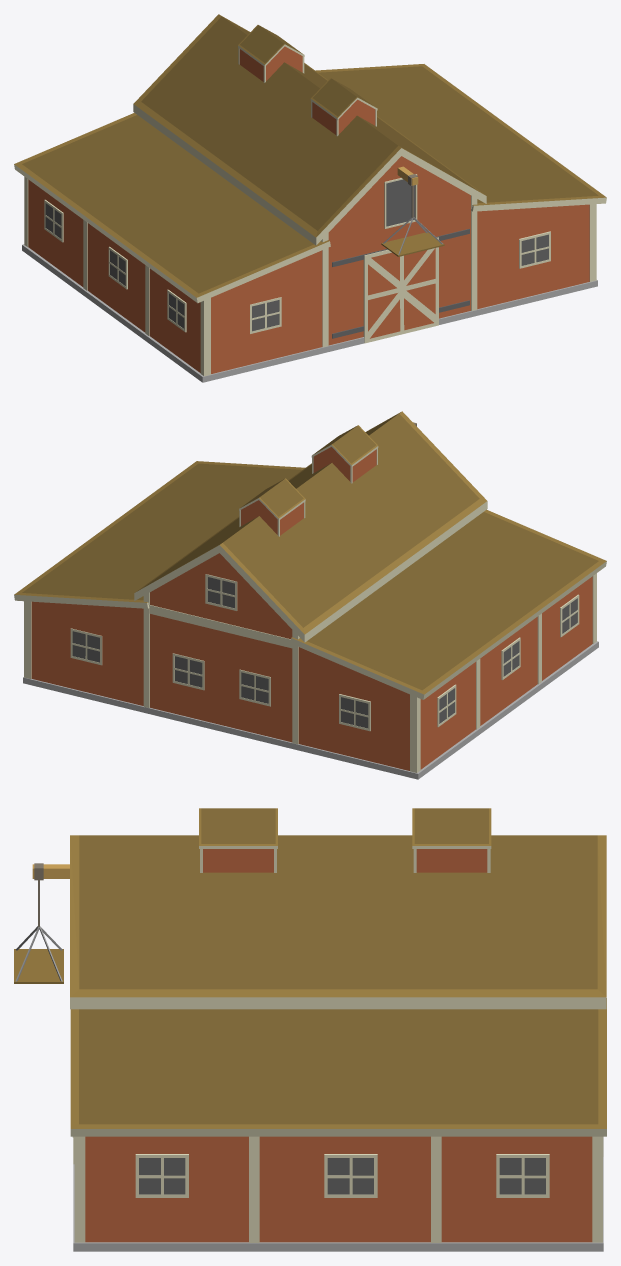
File: houses2.fbx
3 views of the same model, one above another, from view 1: azimuth 30°, elevation 25°; view 2: azimuth 150°, elevation 25°; view 3: azimuth 270°, elevation 25° (orthographic). The views are drawn at different scales.
Visible parts, largest first — view 1: Null_3; view 2: Null_3; view 3: Null_3.
Part boxes in pixels (x1,y1,x2,y2): Null_3: (14, 14, 606, 382); Null_3: (14, 411, 606, 779); Null_3: (14, 808, 606, 1251).
Size of the model in its own units: 1630 by 781 by 1390.
